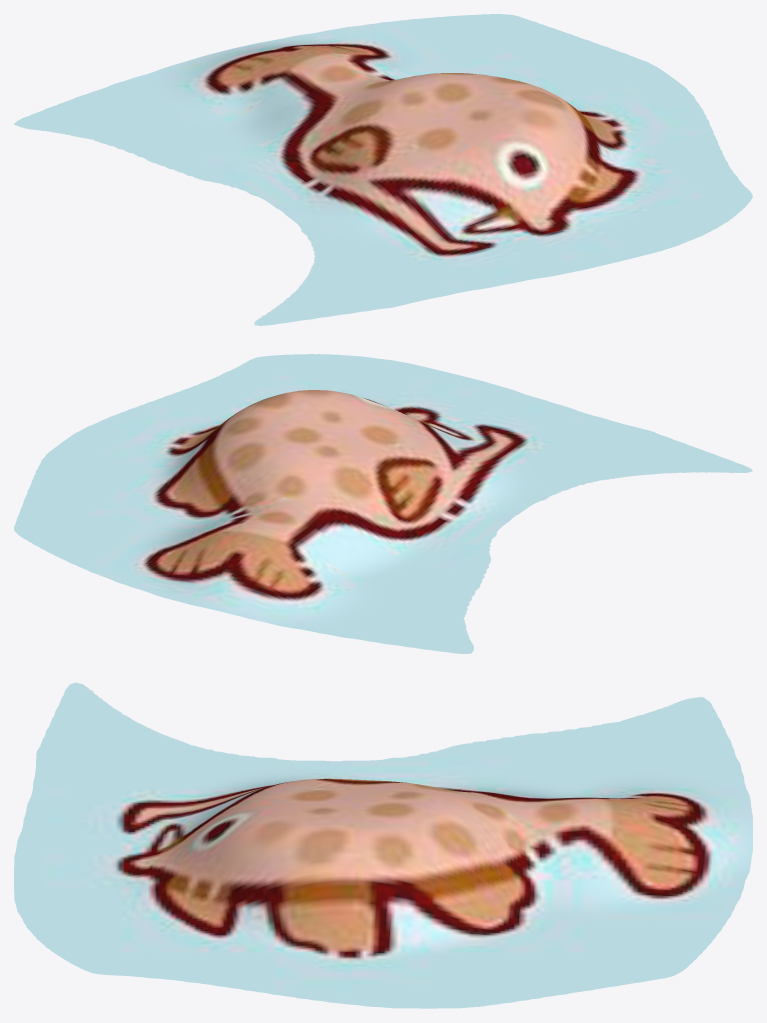
Rendered from 泡泡贴纸2.fbx.
3 views of the same model, one above another, from view 1: azimuth 30°, elevation 25°; view 2: azimuth 150°, elevation 25°; view 3: azimuth 270°, elevation 25° (orthographic). The views are drawn at different scales.
Visible parts, largest first — view 1: 平面.001; view 2: 平面.001; view 3: 平面.001.
Boxes of the visible parts, x1,y1,x2,y2 form: 平面.001: [14, 14, 752, 325]; 平面.001: [14, 354, 752, 653]; 平面.001: [14, 682, 752, 1008].
Bounding box in the file's own units: 193 × 18.81 × 184.
